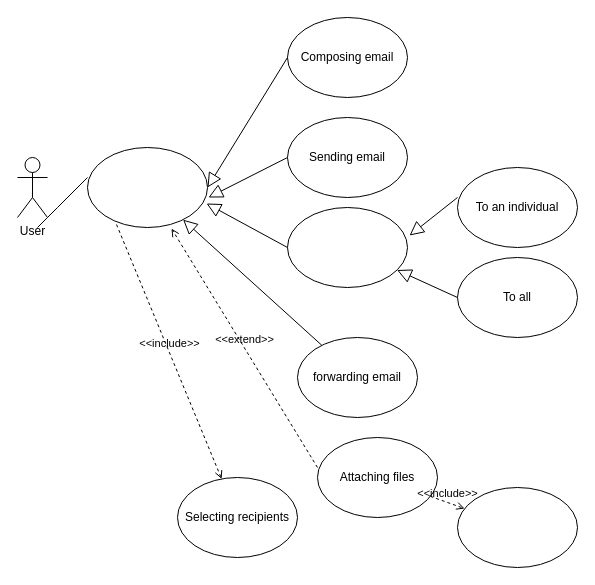
Image size: 595x585. Some labels were removed from this diagram. The centre of each missing label's shape, as x and y in pixels:
"antivirus scan" belongs at (517,527).
"Messaging" belongs at (147,187).
"Replying to email" belongs at (347,247).
